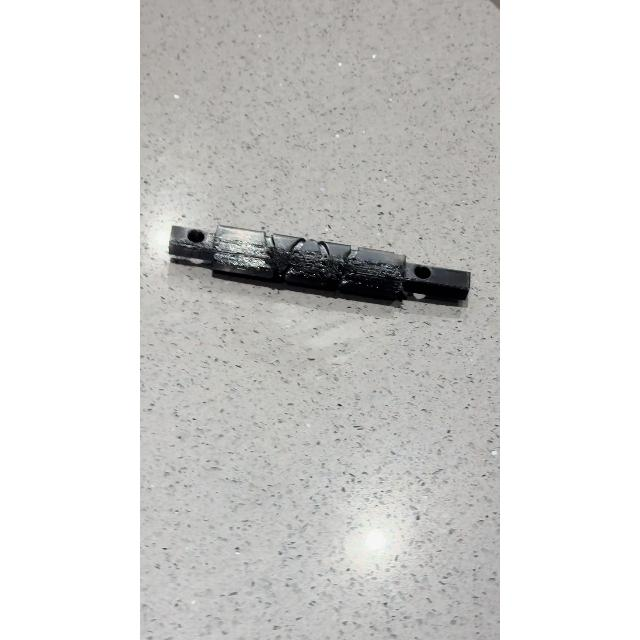Pieza_1: (150, 198, 478, 342)
